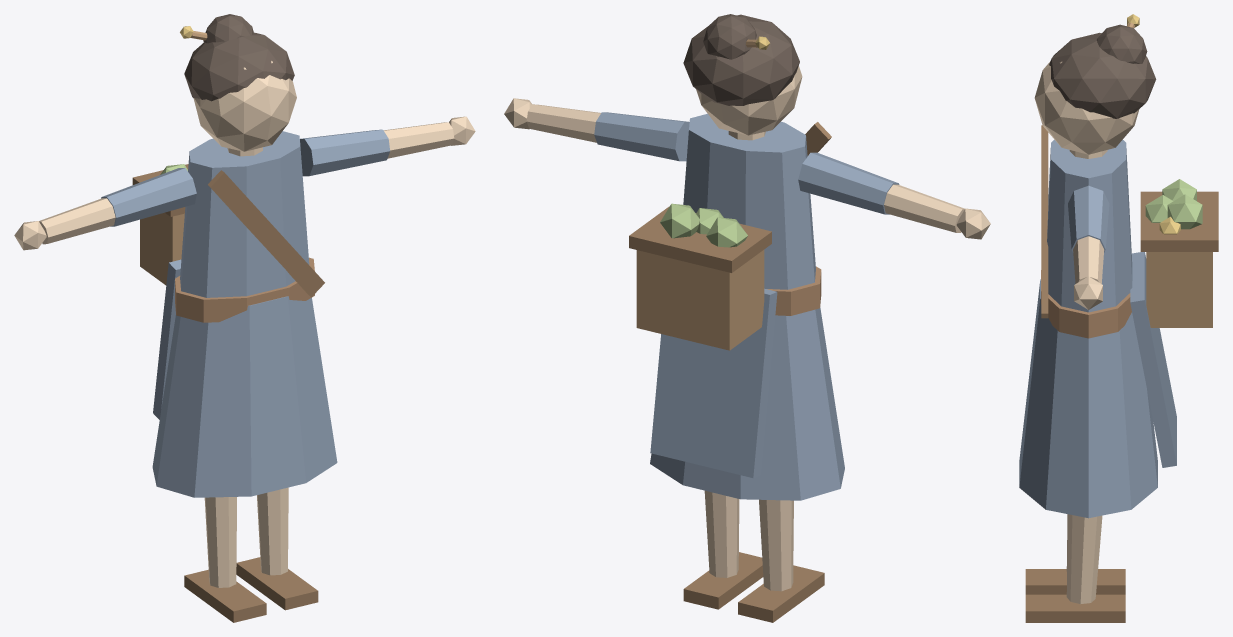
File: companion.glb
3 renders of one model, left to right at view 1: azimuth 30°, elevation 25°; view 2: azimuth 150°, elevation 25°; view 3: azimuth 270°, elevation 25°, orthographic. The views are drawn at different scales.
Visible parts, largest first — view 1: skirt, chest, head_mesh, hair, strap, upperarm_-1, upperarm_1, shin_-1, sash_belt, shin_1, basket, sandal_1 (+6 smaller); view 2: skirt, back_flap, chest, basket, hair, basket_rim, upperarm_-1, upperarm_1, shin_-1, head_mesh, shin_1, sandal_-1 (+8 smaller); view 3: skirt, chest, hair, basket, back_flap, head_mesh, basket_rim, shin_1, sandal_1, sash_belt, upperarm_1, sandal_-1 (+8 smaller).
Boxes of the visible parts, <box> form: skirt: <box>152,296,337,497</box>; chest: <box>180,131,309,323</box>; head_mesh: <box>193,61,296,151</box>; hair: <box>184,32,294,101</box>; strap: <box>208,170,324,296</box>; upperarm_-1: <box>101,168,196,226</box>; upperarm_1: <box>300,129,390,176</box>; shin_-1: <box>204,497,236,587</box>; sash_belt: <box>175,257,314,322</box>; shin_1: <box>257,487,288,575</box>; basket: <box>140,212,184,285</box>; sandal_1: <box>236,557,318,610</box>; skirt: <box>650,307,844,500</box>; back_flap: <box>650,288,777,478</box>; chest: <box>683,113,815,316</box>; basket: <box>636,250,764,350</box>; hair: <box>683,14,799,105</box>; basket_rim: <box>629,206,771,272</box>; upperarm_-1: <box>798,152,899,214</box>; upperarm_1: <box>594,112,689,161</box>; shin_-1: <box>759,499,793,591</box>; head_mesh: <box>696,66,802,135</box>; shin_1: <box>704,490,739,577</box>; sandal_-1: <box>738,565,824,622</box>; skirt: <box>1019,279,1157,518</box>; chest: <box>1047,139,1132,338</box>; hair: <box>1049,32,1156,118</box>; basket: <box>1146,252,1212,327</box>; back_flap: <box>1130,252,1176,467</box>; head_mesh: <box>1034,48,1139,154</box>; basket_rim: <box>1140,191,1218,251</box>; shin_1: <box>1066,514,1102,604</box>; sandal_1: <box>1025,594,1125,622</box>; sash_belt: <box>1041,270,1131,338</box>; upperarm_1: <box>1068,185,1109,252</box>; sandal_-1: <box>1025,569,1125,594</box>.
Size of the model in its own units: 1.39 by 1.65 by 0.5181.
